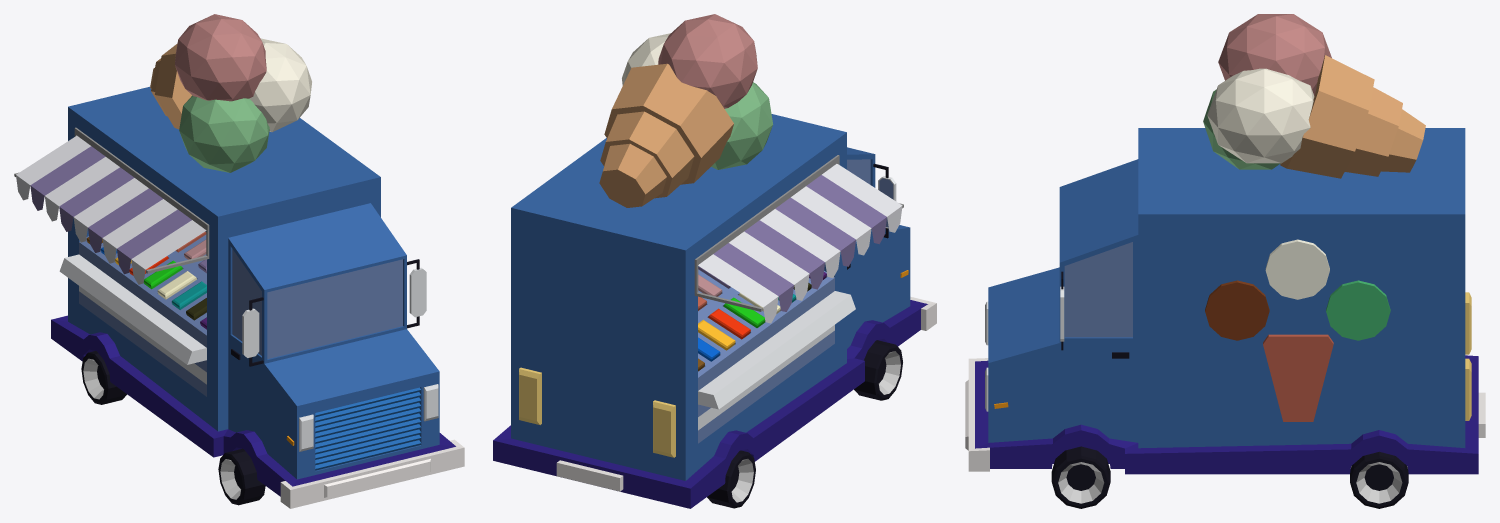
File: lowPoly_iceCreamVan.fbx
The picture shows the model from 3 angles, left to right: view 1: azimuth 30°, elevation 25°; view 2: azimuth 150°, elevation 25°; view 3: azimuth 270°, elevation 25°; orthographic projection. The views are drawn at different scales.
Visible parts, largest first — view 1: ICETRUCK; view 2: ICETRUCK; view 3: ICETRUCK.
Boxes of the visible parts, x1,y1,x2,y2 form: ICETRUCK: (14, 14, 464, 508); ICETRUCK: (493, 14, 936, 508); ICETRUCK: (965, 14, 1485, 508).
Size of the model in its own units: 326 by 524 by 567.
1 material, 1 textured.
